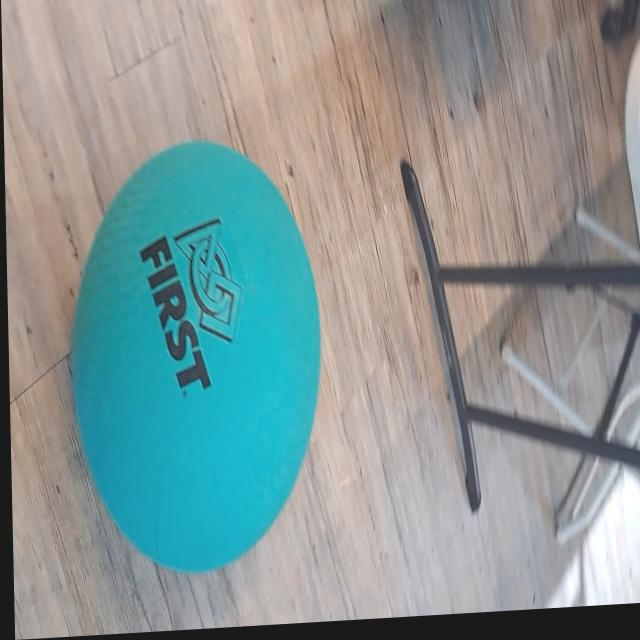ALGAE: (64, 129, 328, 582)
